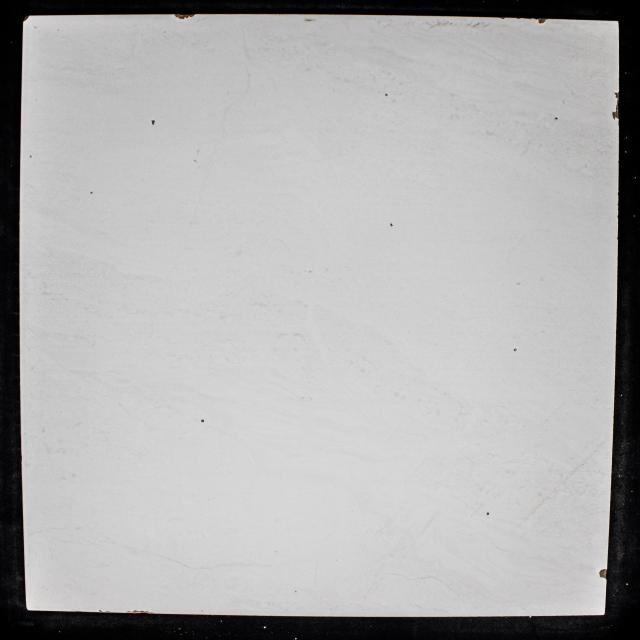edge-chipping: (611, 92, 620, 120), (174, 12, 196, 21), (125, 609, 153, 616), (599, 568, 608, 580), (22, 14, 30, 23), (538, 18, 547, 24), (498, 17, 506, 20)
hole: (151, 118, 156, 126), (384, 92, 388, 98), (513, 348, 518, 352), (554, 116, 559, 120), (389, 222, 393, 227), (90, 191, 94, 195), (201, 419, 205, 423), (486, 512, 490, 516), (29, 155, 33, 158)
